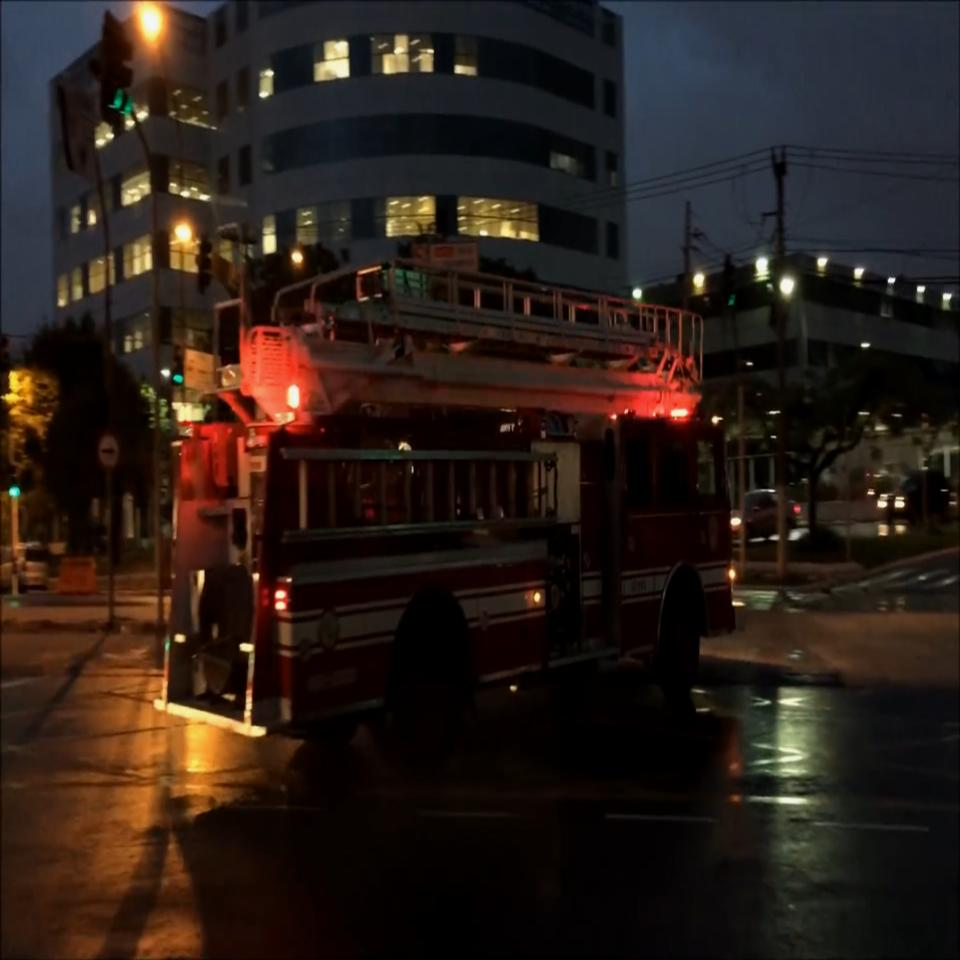bombeiro: (154, 254, 745, 777)
